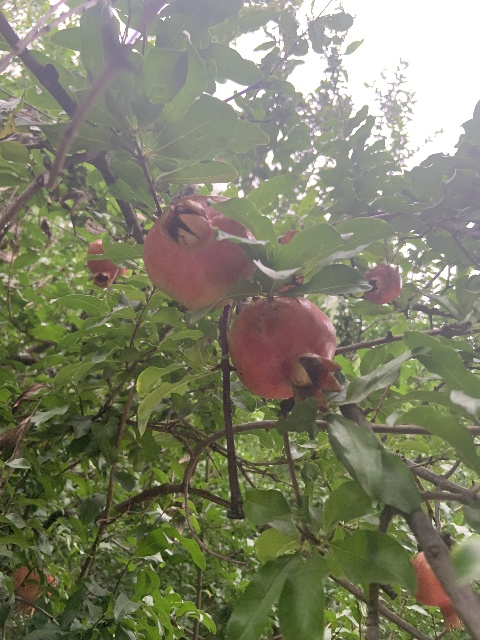ripe: (227, 294, 343, 412), (142, 194, 256, 309), (412, 551, 462, 634), (13, 563, 55, 618), (86, 239, 127, 288), (361, 263, 402, 304)
